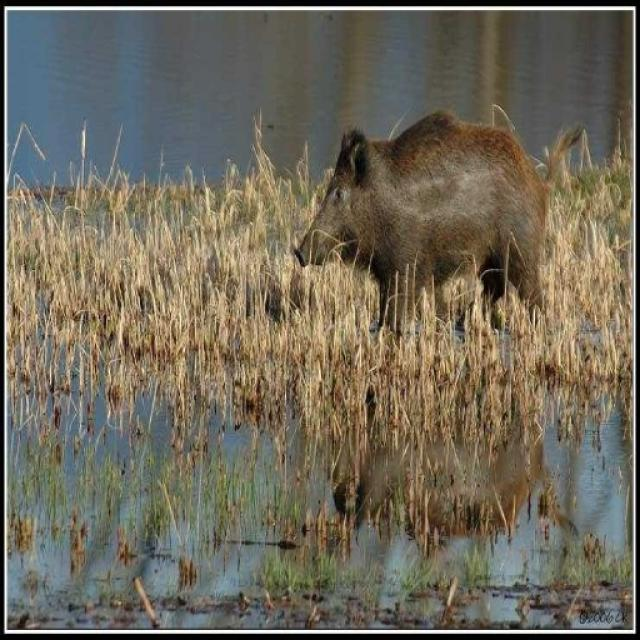pig: (268, 107, 640, 350)
